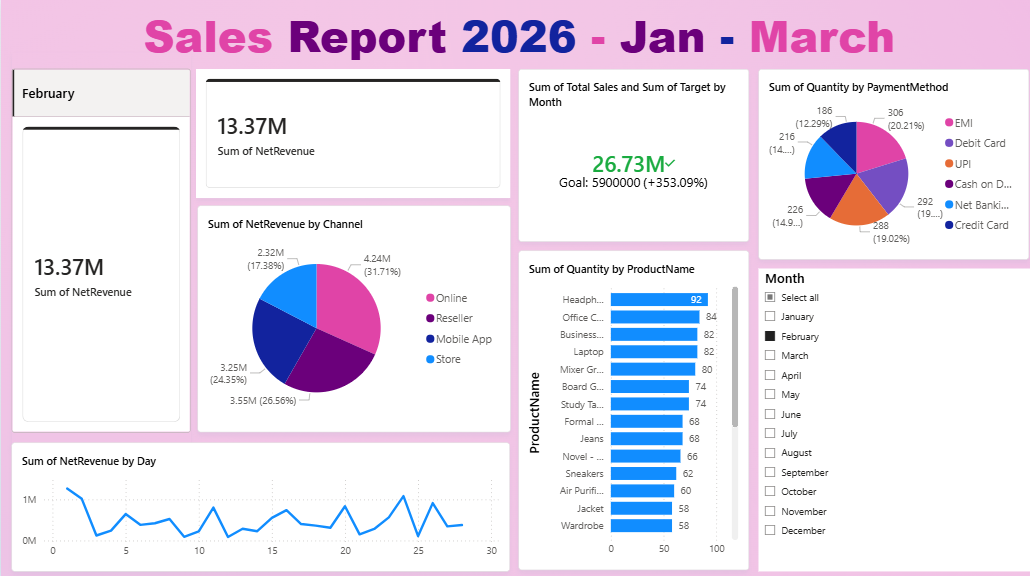

The dashboard page shown, as its layout file describes it:
{"tool":"powerbi","page":{"name":"Page 1","canvas":[1280,720],"ordinal":0},"visuals":[{"type":"textbox","box":[0,0,1279.6,85.2],"z":0},{"type":"cardVisual","fields":{"Data":["Sum(Sales_Jan.NetRevenue)"]},"box":[240.2,84.3,388.1,159.1],"z":1000},{"type":"cardVisual","fields":{"Rows":["Sales_Jan.OrderDate.Variation.Date Hierarchy.Month"],"Data":["Sum(Sales_Jan.NetRevenue)"]},"box":[12.3,64.9,221.1,489.5],"z":2000},{"type":"pieChart","fields":{"Y":["Sum(Sales_Jan.NetRevenue)"],"Category":["Sales_Jan.Channel"]},"box":[241.8,254.5,386.5,279.9],"z":3000},{"type":"lineChart","fields":{"Y":["Sum(Sales_Jan.NetRevenue)"],"Category":["Sales_Jan.OrderDate.Variation.Date Hierarchy.Day"]},"box":[12.7,547.2,615.6,159.1],"z":4000},{"type":"barChart","fields":{"Y":["Sum(Sales_Jan.Quantity)"],"Category":["Sales_Jan.ProductName"]},"box":[639.4,310.2,284.7,394.5],"z":5000},{"type":"pieChart","fields":{"Category":["Sales_Jan.PaymentMethod"],"Y":["Sum(Sales_Jan.Quantity)"]},"box":[935.3,84.3,335.6,235.4],"z":6000},{"type":"slicer","fields":{"Values":["Sales_Jan.OrderDate.Variation.Date Hierarchy.Month"]},"box":[935.3,330.8,338.8,373.8],"z":7000},{"type":"kpi","fields":{"Indicator":["Sum(Sales_Jan.Total Sales)"],"Goal":["Sum(Sales_Jan.Target)"],"TrendLine":["Sales_Jan.OrderDate.Variation.Date Hierarchy.Month"]},"box":[639.4,84.3,284.7,213.1],"z":8000}]}

Visuals, with their boxes in screenshot pixels (x1, y1, x2, y2), scaled from the page's 1280x720 canvas onto the 1030x576 screenshot:
textbox: [left=0, top=0, right=1029, bottom=68]
cardVisual - Sum(Sales_Jan.NetRevenue): [left=193, top=67, right=506, bottom=195]
cardVisual - Sales_Jan.OrderDate.Variation.Date Hierarchy.Month x Sum(Sales_Jan.NetRevenue): [left=10, top=52, right=188, bottom=444]
pieChart - Sum(Sales_Jan.NetRevenue) x Sales_Jan.Channel: [left=195, top=204, right=506, bottom=428]
lineChart - Sum(Sales_Jan.NetRevenue) x Sales_Jan.OrderDate.Variation.Date Hierarchy.Day: [left=10, top=438, right=506, bottom=565]
barChart - Sum(Sales_Jan.Quantity) x Sales_Jan.ProductName: [left=515, top=248, right=744, bottom=564]
pieChart - Sales_Jan.PaymentMethod x Sum(Sales_Jan.Quantity): [left=753, top=67, right=1023, bottom=256]
slicer - Sales_Jan.OrderDate.Variation.Date Hierarchy.Month: [left=753, top=265, right=1025, bottom=564]
kpi - Sum(Sales_Jan.Total Sales) x Sum(Sales_Jan.Target): [left=515, top=67, right=744, bottom=238]
